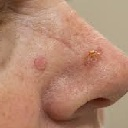Carcinoma: (85, 49, 102, 68)
